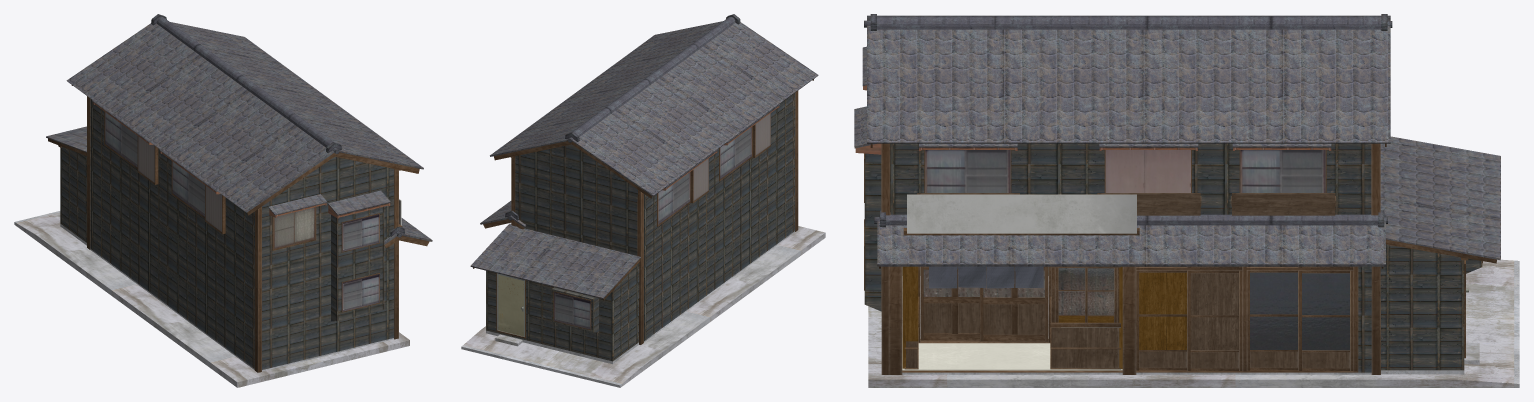
File: house_shop_01k_1c.fbx
3 views of the same model, side by side, from view 1: azimuth 30°, elevation 25°; view 2: azimuth 150°, elevation 25°; view 3: azimuth 270°, elevation 25° (orthographic). The views are drawn at different scales.
Parts seen in each view (by area): view 1: house_shop_01k_1c; view 2: house_shop_01k_1c; view 3: house_shop_01k_1c.
Boxes of the visible parts, bbox=[...] form: house_shop_01k_1c: bbox=[14, 14, 432, 387]; house_shop_01k_1c: bbox=[461, 14, 825, 387]; house_shop_01k_1c: bbox=[854, 14, 1519, 387].
Size of the model in its own units: 788 by 1568 by 835.
Materials: 9 (9 with a texture image).
